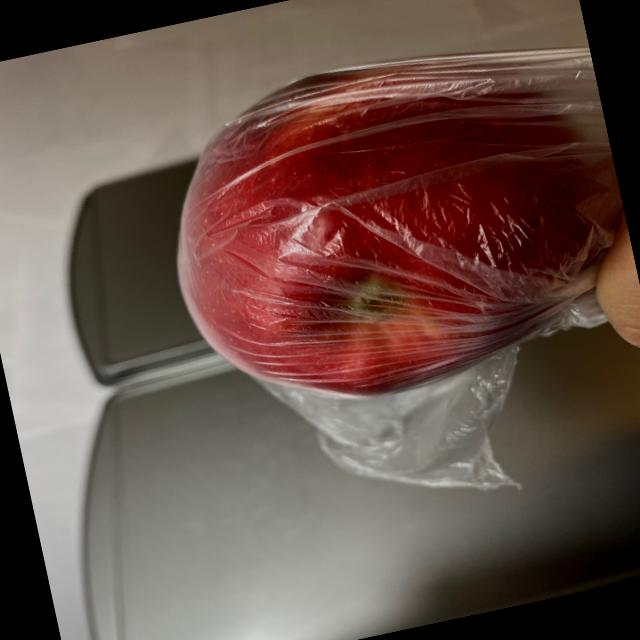apple: (130, 15, 626, 438)
